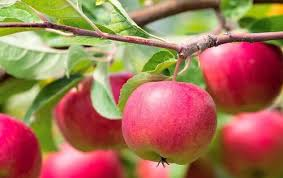Apple: (121, 81, 215, 162), (53, 71, 139, 149), (195, 35, 283, 111), (219, 113, 283, 177), (43, 141, 121, 178), (0, 111, 40, 177), (137, 157, 170, 178)
